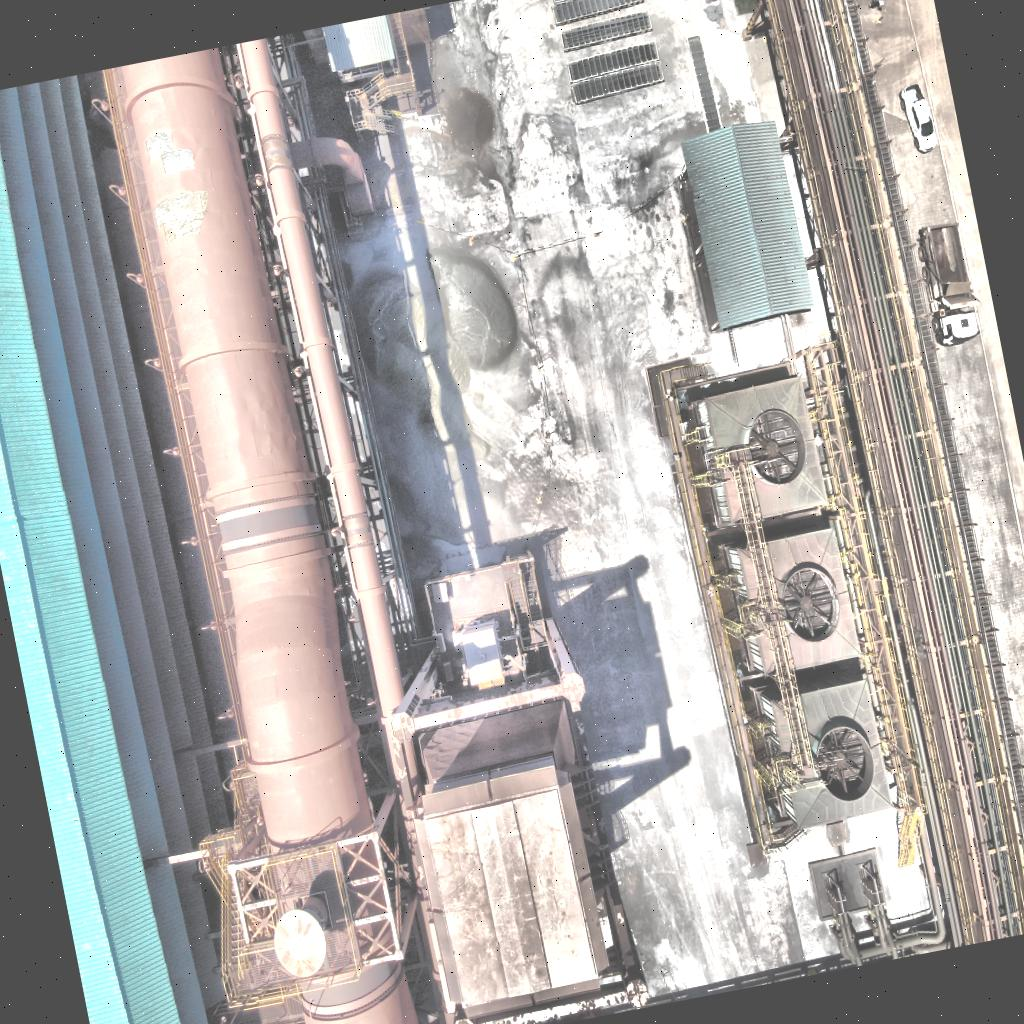Failures: (149, 188, 216, 246), (142, 126, 196, 180)
